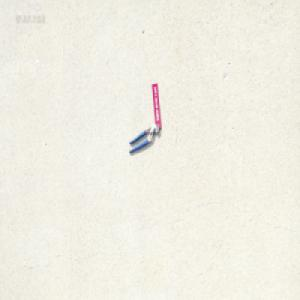Label: (151, 82, 161, 131)
Pliers: (128, 122, 159, 154)
